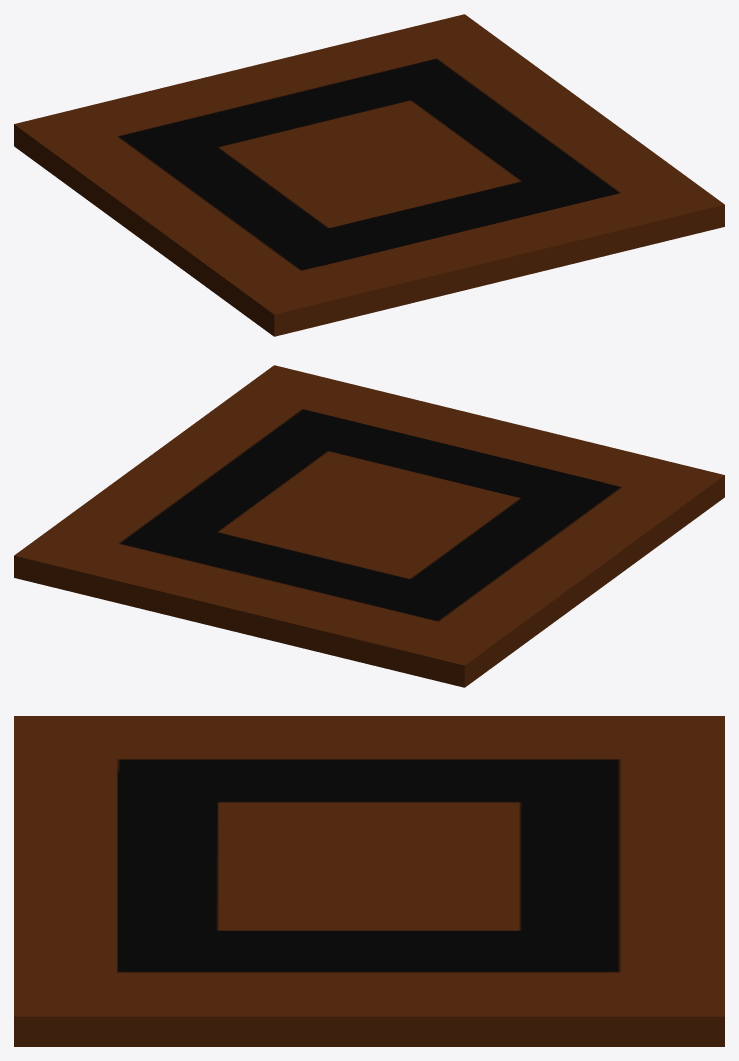
Rendered from rug2.fbx.
3 renders of one model, top to bottom at view 1: azimuth 30°, elevation 25°; view 2: azimuth 150°, elevation 25°; view 3: azimuth 270°, elevation 25°, orthographic. The views are drawn at different scales.
Visible parts, largest first — view 1: pCube1; view 2: pCube1; view 3: pCube1.
Boxes of the visible parts, x1=… form: pCube1: x1=14, y1=14, x2=724, y2=336; pCube1: x1=14, y1=365, x2=724, y2=687; pCube1: x1=14, y1=716, x2=724, y2=1046.
Size of the model in its own units: 6.88 by 0.3242 by 6.88.
